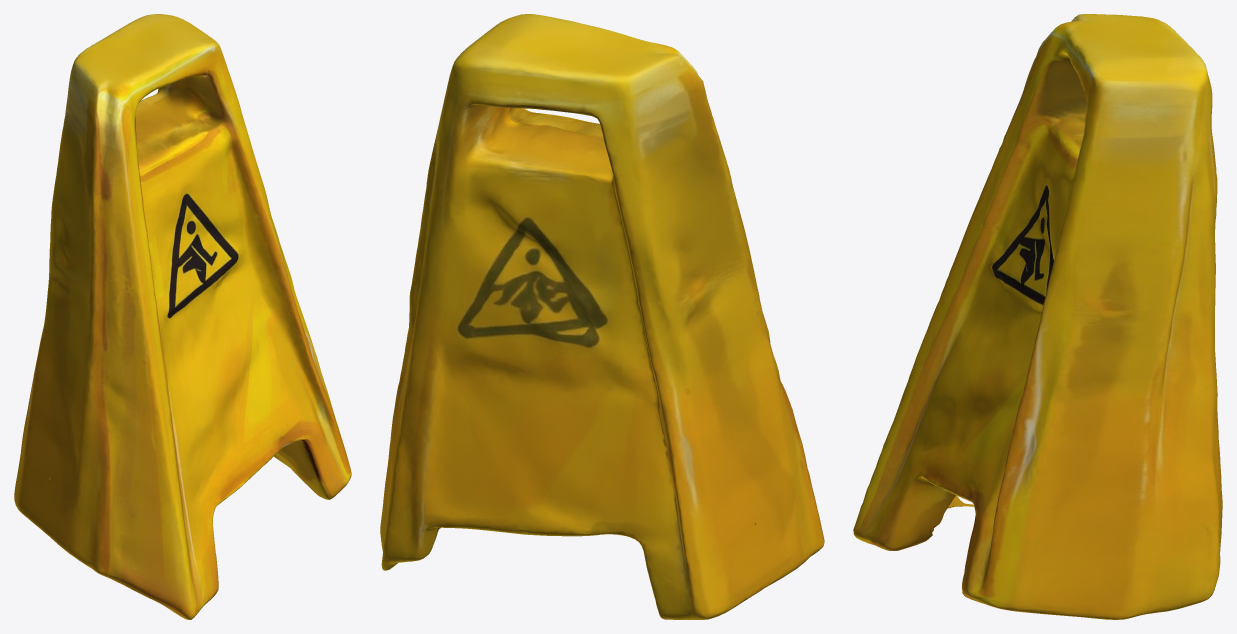
The model's file is wet_sign.glb.
3 renders of one model, left to right at view 1: azimuth 30°, elevation 25°; view 2: azimuth 150°, elevation 25°; view 3: azimuth 270°, elevation 25°, orthographic. The views are drawn at different scales.
Visible parts, largest first — view 1: piece; view 2: piece; view 3: piece.
Boxes of the visible parts, x1,y1,x2,y2 form: piece: (14, 14, 351, 619); piece: (380, 14, 824, 619); piece: (853, 14, 1222, 619).
Bounding box in the file's own units: 0.4078 × 0.65 × 0.4.
Materials: 1 (1 with a texture image).
